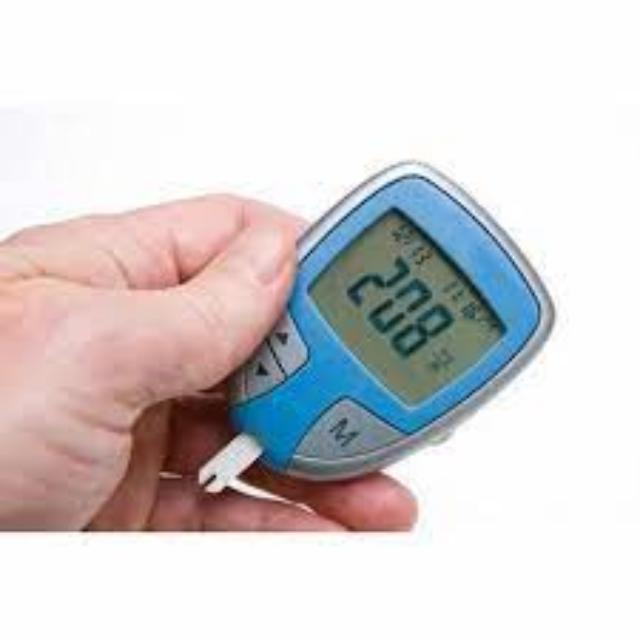Glucose-Meter: (199, 165, 554, 498)
